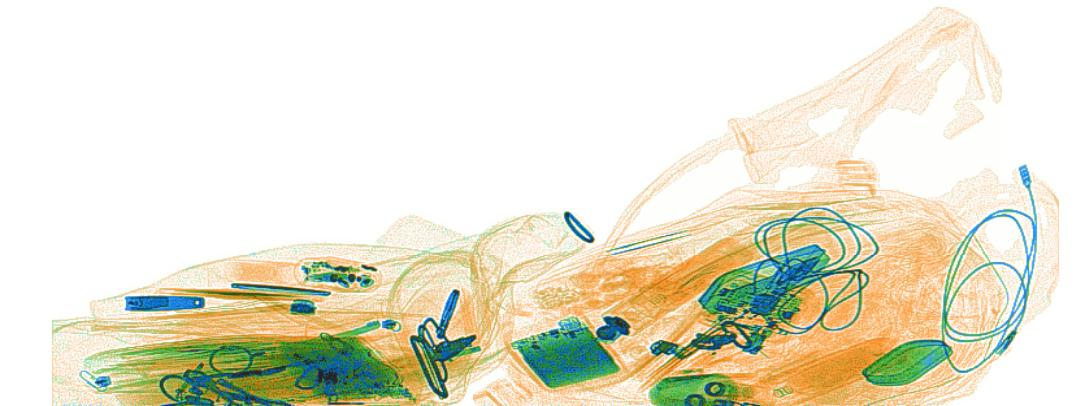plasticBottleWithaNozzle: (600, 235, 756, 335), (764, 335, 904, 402)
